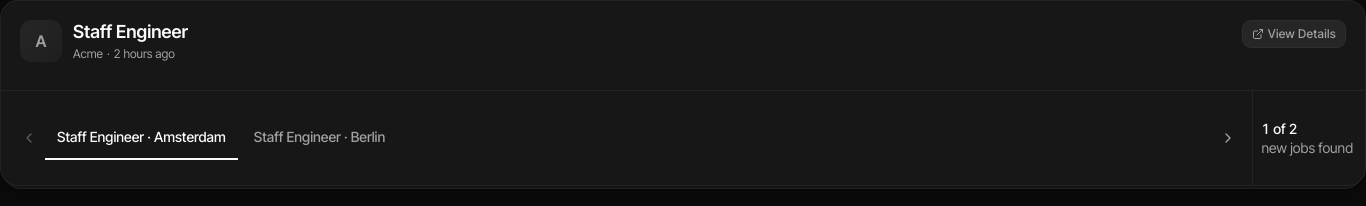
Test case: organization card stack › uses location to distinguish duplicate titles before selection
Click the tab "Staff Engineer · Berlin" at [320, 138], box x1=242 y1=116 x2=397 y2=160
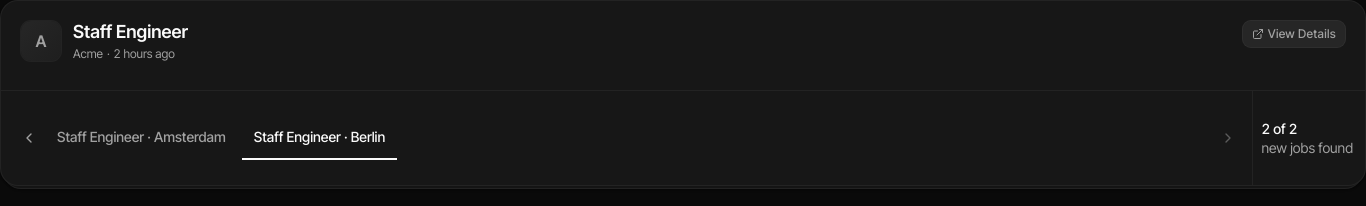
expect the message shows "2 of 2": met, box x1=1261 y1=100 x2=1353 y2=175
